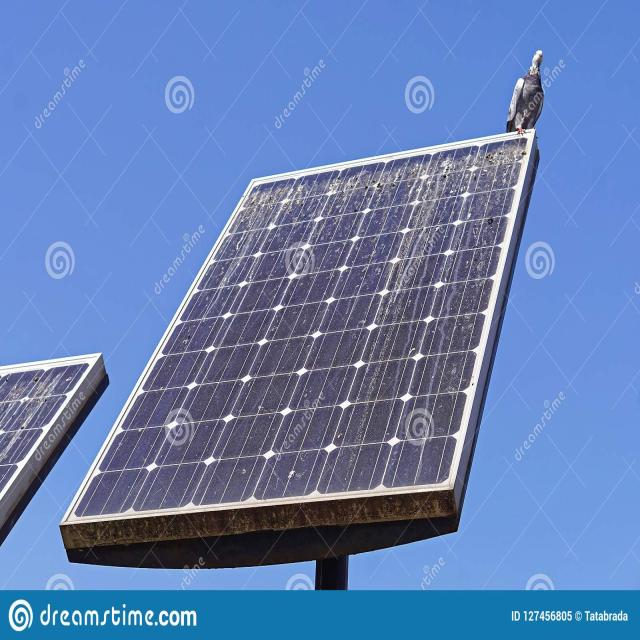dust-solar-panel: (69, 129, 533, 524), (0, 367, 97, 501)
